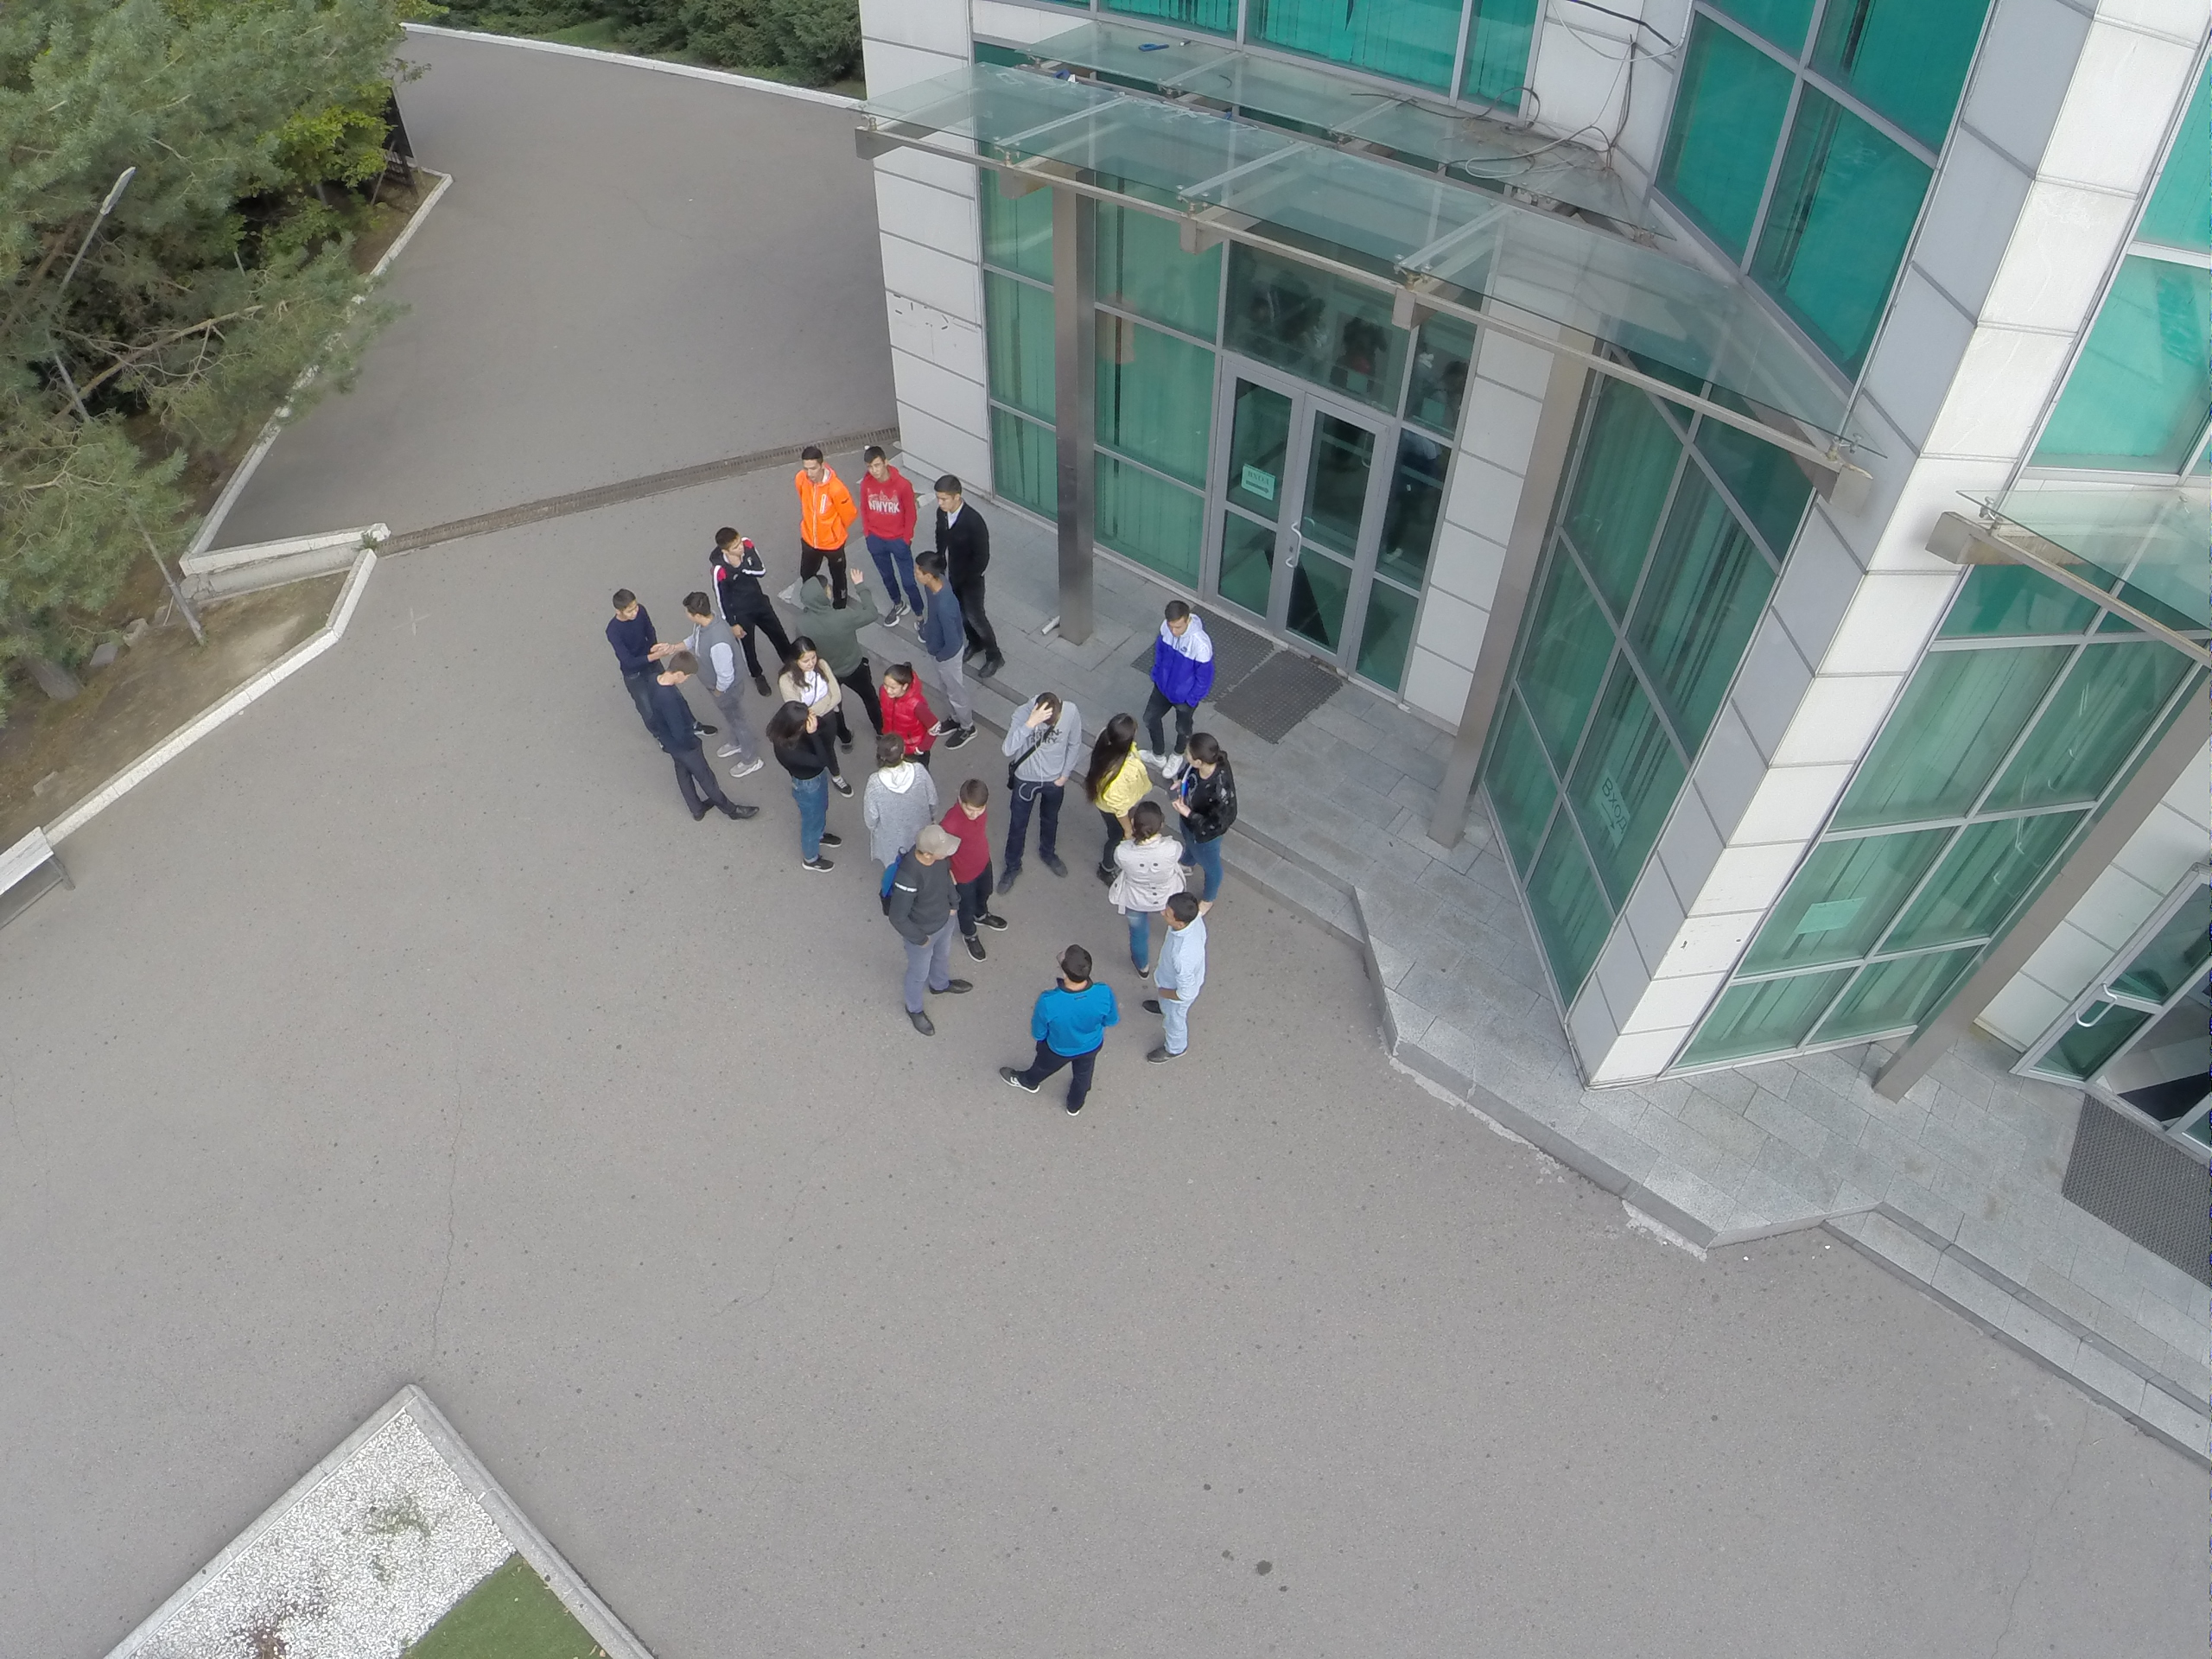person: (994, 943, 1126, 1120), (879, 831, 976, 1040), (999, 685, 1080, 890), (651, 662, 751, 831), (682, 594, 768, 772), (852, 446, 931, 628), (768, 702, 848, 878), (705, 523, 791, 683), (937, 767, 1010, 954), (922, 472, 992, 654), (801, 575, 881, 735), (900, 554, 967, 745), (1143, 892, 1211, 1071), (1135, 602, 1224, 743), (783, 446, 857, 609), (792, 642, 868, 793), (1179, 727, 1239, 912), (1119, 812, 1185, 957), (861, 734, 945, 851), (868, 662, 934, 745), (602, 582, 652, 666)
